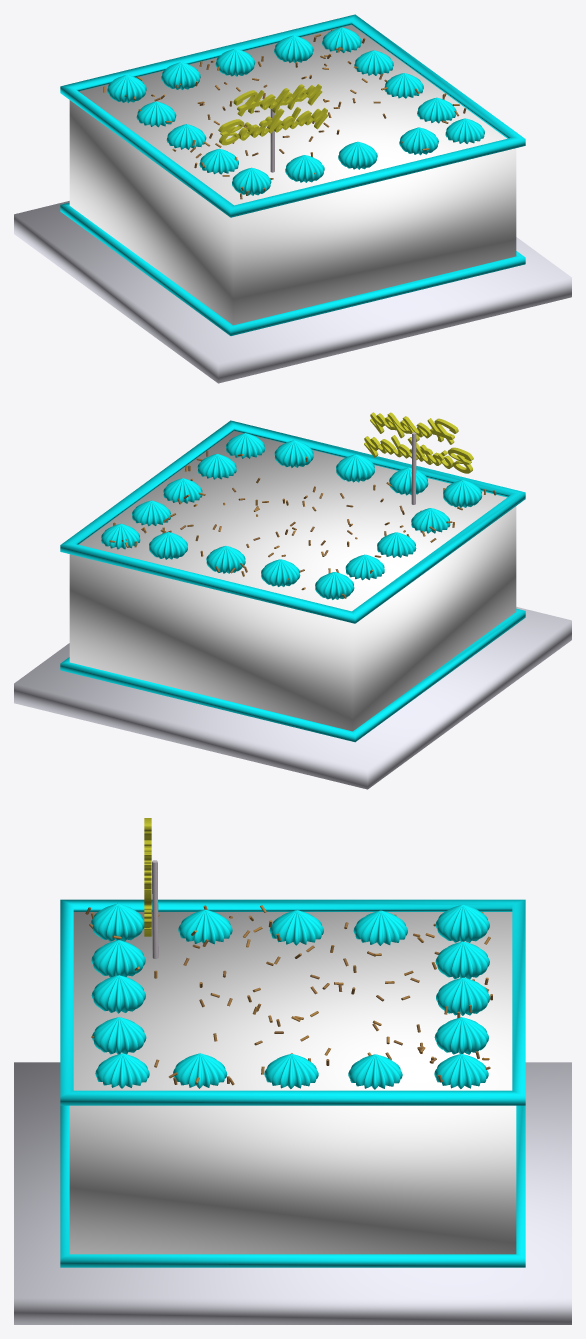
The model's file is cake_1755624778549.glb.
3 views of the same model, one above another, from view 1: azimuth 30°, elevation 25°; view 2: azimuth 150°, elevation 25°; view 3: azimuth 270°, elevation 25° (orthographic). The views are drawn at different scales.
Parts seen in each view (by area): view 1: CakeBase, IcingStand, IcingRing001, IcingRing, Text001, Text, design9, design8, design12, design10, design7, design11 (+10 smaller); view 2: CakeBase, IcingStand, IcingRing001, IcingRing, Text001, Text, design13, design9, design11, design12, design7, design6 (+10 smaller); view 3: CakeBase, IcingStand, IcingRing001, IcingRing, design12, design9, design11, design6, design13, design7, design10, design8 (+10 smaller).
Part boxes in pixels (left/top/right/bottom): CakeBase: left=69, top=25, right=516, bottom=325; IcingStand: left=14, top=201, right=571, bottom=383; IcingRing001: left=60, top=14, right=525, bottom=217; IcingRing: left=60, top=202, right=525, bottom=335; Text001: left=218, top=107, right=328, bottom=145; Text: left=233, top=84, right=322, bottom=116; design9: left=338, top=141, right=377, bottom=169; design8: left=215, top=48, right=255, bottom=76; design12: left=107, top=75, right=146, bottom=102; design10: left=285, top=155, right=324, bottom=182; design7: left=274, top=35, right=313, bottom=63; design11: left=161, top=62, right=200, bottom=89; CakeBase: left=69, top=431, right=516, bottom=731; IcingStand: left=14, top=607, right=571, bottom=789; IcingRing001: left=60, top=420, right=525, bottom=623; IcingRing: left=60, top=608, right=525, bottom=742; Text001: left=364, top=435, right=473, bottom=473; Text: left=370, top=412, right=458, bottom=444; design13: left=443, top=480, right=482, bottom=507; design9: left=336, top=454, right=374, bottom=482; design11: left=261, top=559, right=300, bottom=586; design12: left=315, top=572, right=354, bottom=599; design7: left=149, top=532, right=187, bottom=559; design6: left=274, top=440, right=313, bottom=467; CakeBase: left=69, top=912, right=516, bottom=1254; IcingStand: left=14, top=1062, right=571, bottom=1324; IcingRing001: left=60, top=899, right=525, bottom=1105; IcingRing: left=60, top=1105, right=525, bottom=1267; design12: left=435, top=904, right=489, bottom=942; design9: left=91, top=975, right=145, bottom=1013; design11: left=435, top=941, right=489, bottom=979; design6: left=92, top=1017, right=146, bottom=1054; design13: left=90, top=903, right=144, bottom=941; design7: left=434, top=1017, right=488, bottom=1054; design10: left=91, top=940, right=145, bottom=977; design8: left=436, top=977, right=490, bottom=1015.
Size of the model in its own units: 7.5 by 4.78 by 7.5.
